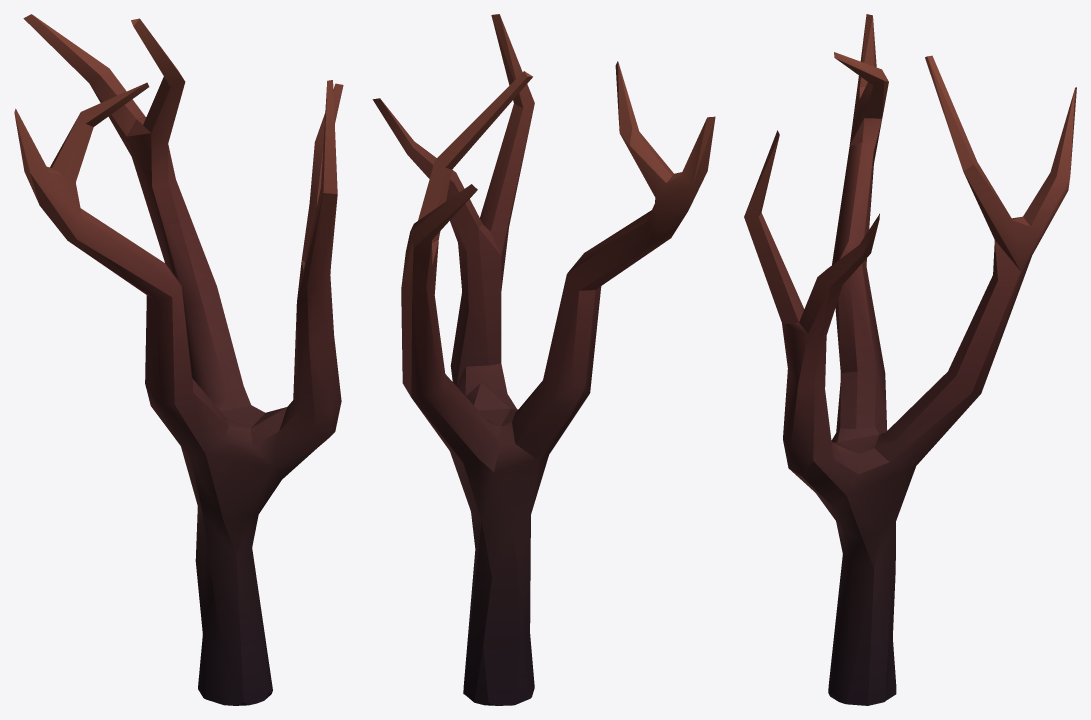
Rendered from DeadTree2.fbx.
3 views of the same model, side by side, from view 1: azimuth 30°, elevation 25°; view 2: azimuth 150°, elevation 25°; view 3: azimuth 270°, elevation 25° (orthographic). The views are drawn at different scales.
Parts seen in each view (by area): view 1: DeadTree2; view 2: DeadTree2; view 3: DeadTree2.
Part boxes in pixels (bbox=[...]): DeadTree2: bbox=[14, 14, 343, 705]; DeadTree2: bbox=[372, 14, 715, 705]; DeadTree2: bbox=[744, 14, 1076, 705].
Size of the model in its own units: 3.35 by 6.29 by 3.12.
